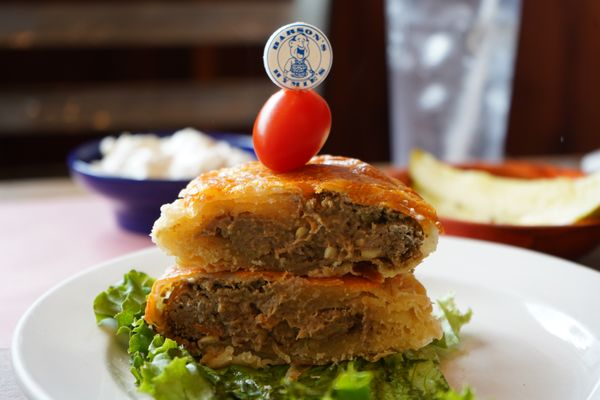soup: (133, 154, 474, 395)
sushi: (66, 125, 260, 232)
